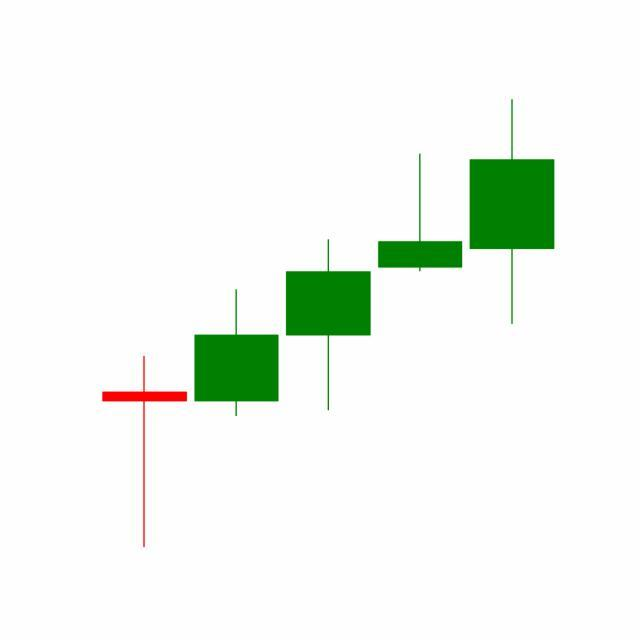Advance Block: (190, 152, 467, 421)
